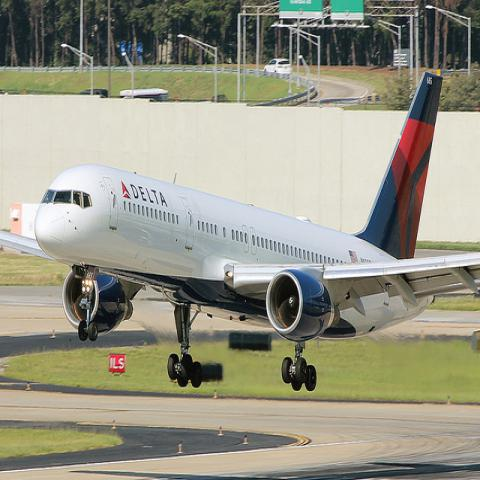car: (262, 59, 294, 73)
